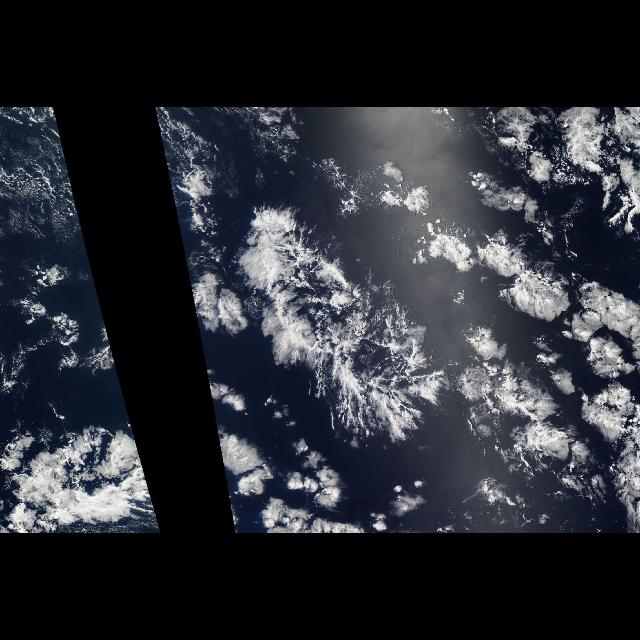Fish: (238, 197, 457, 458)
Flower: (238, 185, 628, 501)
